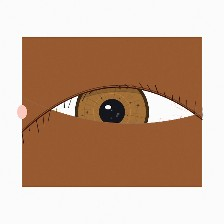pinguecula_lesion: (37, 97, 81, 133)
